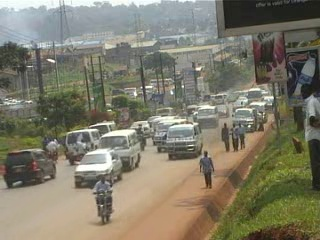Car: (2, 147, 59, 191), (72, 148, 125, 189), (129, 118, 153, 139), (147, 114, 164, 128), (182, 104, 200, 117), (214, 103, 229, 118)
Motorcycle: (90, 186, 115, 226), (48, 146, 60, 166)
